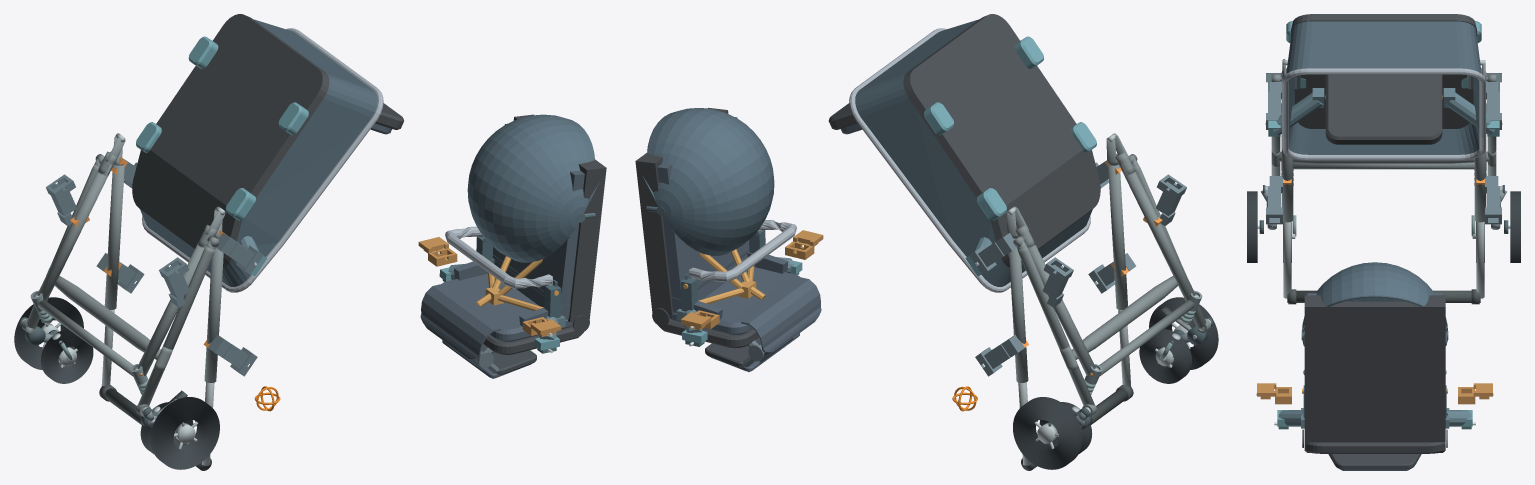
Rendered from D20_w650_state3_wheel_S.glb.
The picture shows the model from 3 angles, left to right: view 1: azimuth 30°, elevation 25°; view 2: azimuth 150°, elevation 25°; view 3: azimuth 270°, elevation 25°; orthographic projection. The views are drawn at different scales.
Parts seen in each view (by area): view 1: D20_Lower, D20_Upper, RL_tire.011, FR_tire.011, main_upper_1.012, main_lower_1.012, V46_rearbar.011, V46_rear_leg_-1.011, main_upper_-1.012, RR_tire.011, main_lower_-1.012, front_fixed_round_tube.011 (+8 smaller); view 2: D20_Lower, D20_Upper, RR_tire.011, FL_tire.011, main_upper_-1.012, main_lower_-1.012, V46_rearbar.011, V46_rear_leg_1.011, main_upper_1.012, RL_tire.011, main_lower_1.012, front_fixed_round_tube.011 (+8 smaller); view 3: D20_Lower, D20_Upper, D20_Lower_Mount_M, front_fixed_round_tube.011, D20_Upper_Mount_H, main_upper_1.012, main_upper_-1.012, RL_tire.011, RR_tire.011, Universal_Cabin_Receiver_H_1, Universal_Cabin_Receiver_H_-1, handle_slider_1.013 (+7 smaller).
Boxes of the visible parts, x1,y1,x2,y2 form: D20_Lower: (132, 14, 403, 292); D20_Upper: (420, 114, 606, 378); RL_tire.011: (150, 397, 219, 469); FR_tire.011: (40, 329, 93, 383); main_upper_1.012: (104, 164, 124, 309); main_lower_1.012: (37, 164, 111, 301); V46_rearbar.011: (54, 276, 160, 359); V46_rear_leg_-1.011: (138, 246, 214, 405); main_upper_-1.012: (204, 238, 223, 382); RR_tire.011: (14, 297, 83, 369); main_lower_-1.012: (137, 243, 207, 375); front_fixed_round_tube.011: (38, 300, 133, 376); D20_Lower: (828, 14, 1100, 292); D20_Upper: (635, 107, 821, 371); RR_tire.011: (1013, 397, 1082, 469); FL_tire.011: (1139, 329, 1191, 383); main_upper_-1.012: (1108, 164, 1127, 309); main_lower_-1.012: (1121, 164, 1195, 301); V46_rearbar.011: (1072, 276, 1177, 359); V46_rear_leg_1.011: (1017, 246, 1094, 405); main_upper_1.012: (1009, 238, 1028, 382); RL_tire.011: (1149, 297, 1218, 369); main_lower_1.012: (1025, 243, 1095, 375); front_fixed_round_tube.011: (1099, 300, 1194, 376); D20_Lower: (1282, 14, 1485, 160); D20_Upper: (1301, 262, 1448, 470); D20_Lower_Mount_M: (1265, 88, 1502, 136); front_fixed_round_tube.011: (1293, 162, 1474, 169); D20_Upper_Mount_H: (1274, 408, 1475, 429); main_upper_1.012: (1474, 99, 1486, 222); main_upper_-1.012: (1281, 99, 1293, 222); RL_tire.011: (1247, 191, 1257, 262); RR_tire.011: (1510, 191, 1520, 262); Universal_Cabin_Receiver_H_1: (1485, 176, 1501, 224); Universal_Cabin_Receiver_H_-1: (1266, 176, 1282, 224); handle_slider_1.013: (1476, 221, 1484, 298).
Bounding box in the file's own units: 1.54 × 1.09 × 0.766.
